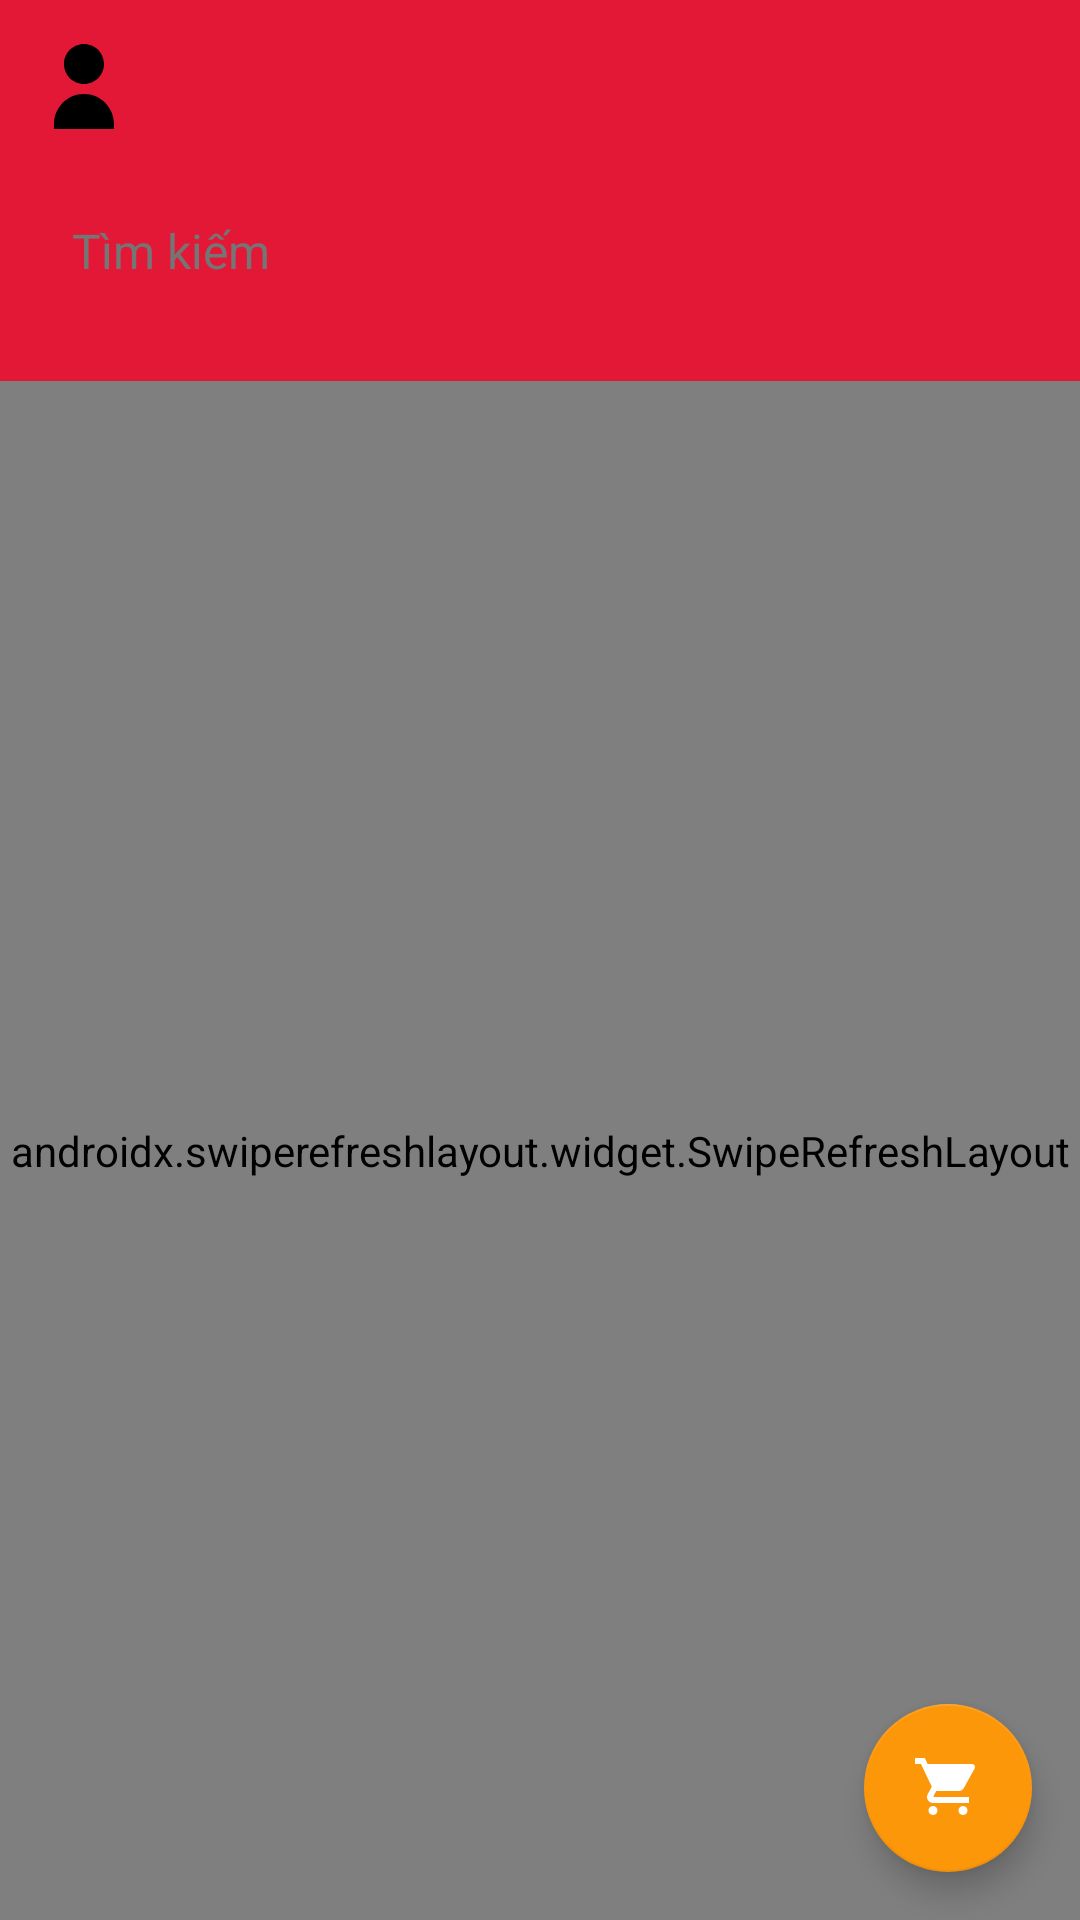

Where icons sit on this 1080*1920 app screen, as [left=x1, top=y1, right=x2, bottom=y2]:
cart: [left=864, top=1704, right=1032, bottom=1872]
Profile: [left=54, top=44, right=114, bottom=129]
